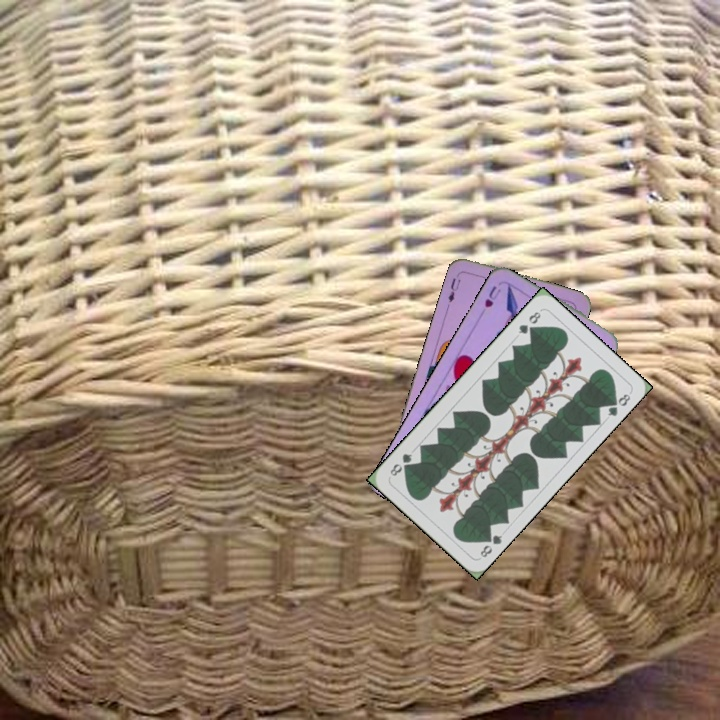EU: (444, 269, 463, 305)
G8: (514, 307, 544, 337), (476, 529, 505, 560)
HU: (480, 282, 504, 310)
